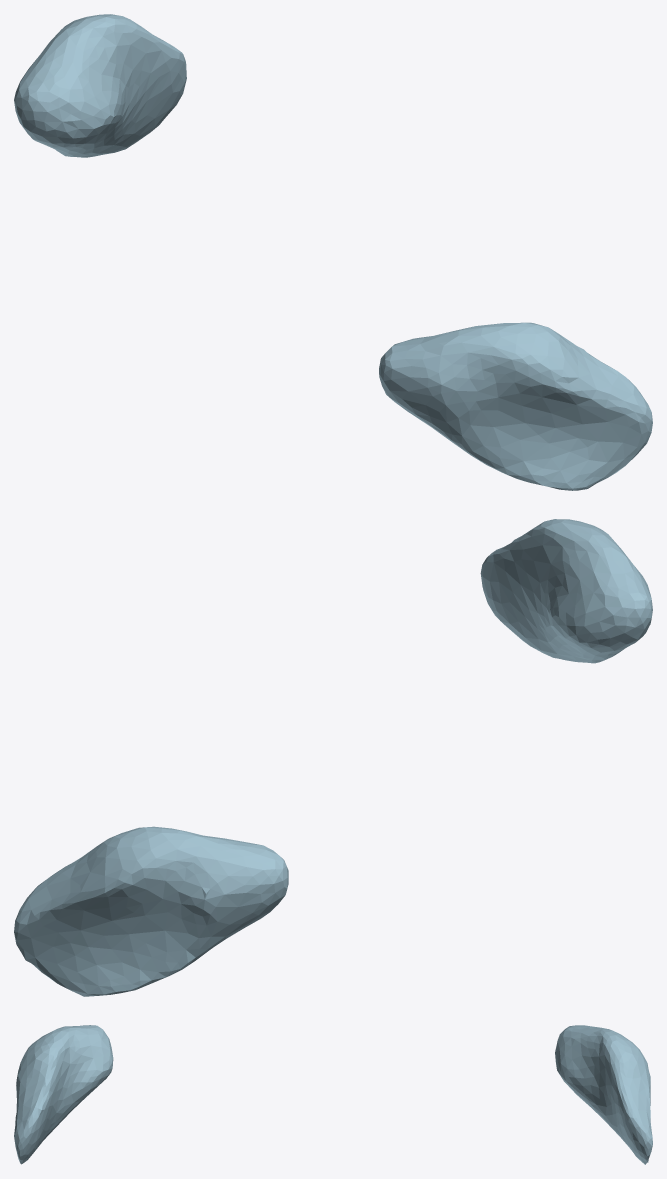
The picture shows the model from 3 angles, top to bottom: view 1: azimuth 30°, elevation 25°; view 2: azimuth 150°, elevation 25°; view 3: azimuth 270°, elevation 25°; orthographic projection. The views are drawn at different scales.
Visible parts, largest first — view 1: 559.obj; view 2: 559.obj; view 3: 559.obj.
Boxes of the visible parts, box(x1,y1,x2,y2) form: 559.obj: box(14, 14, 652, 490); 559.obj: box(14, 519, 652, 996); 559.obj: box(14, 1025, 652, 1164).
Bounding box in the file's own units: 1522 × 1070 × 5762.
